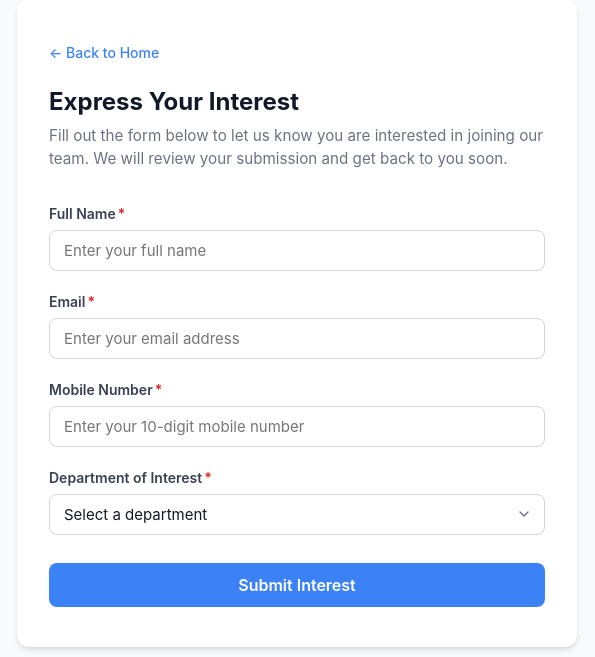
InterestForm › successful submission flow › displays success banner after successful submission
In the field labelled "Full Name*": (297, 250) x1=49 y1=230 x2=545 y2=271, type "Jane Smith"
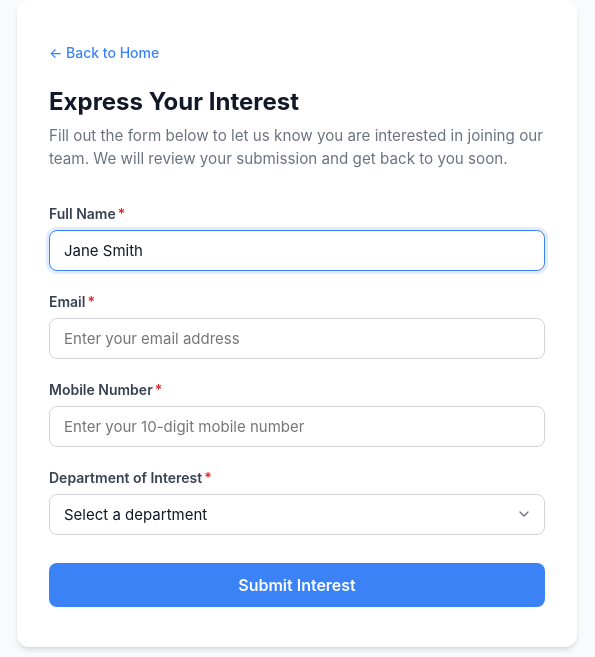
In the field labelled "Email*": (297, 338) x1=49 y1=318 x2=545 y2=359, type "jane@example.com"
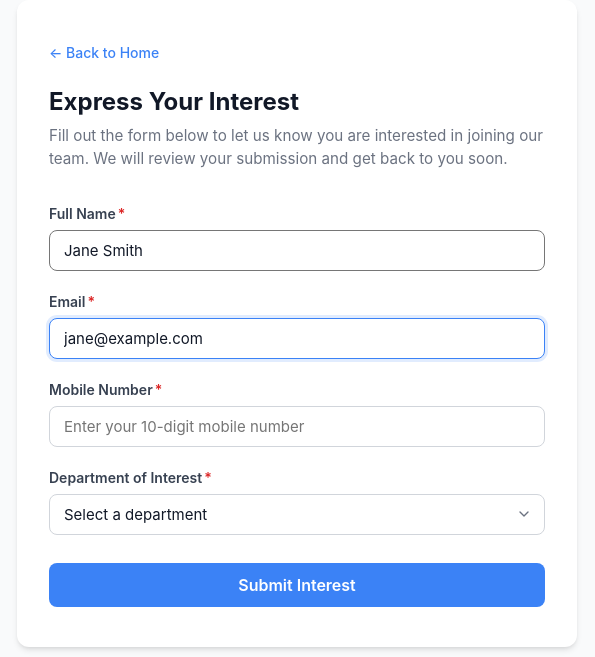
In the field labelled "Mobile Number*": (297, 426) x1=49 y1=406 x2=545 y2=447, type "9876543210"
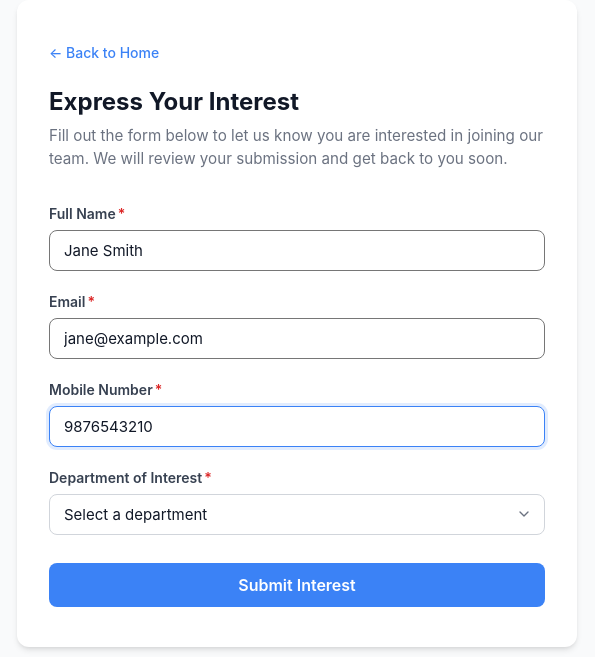
Select "Design" in the dropdown labelled "Department of Interest*": (297, 514) x1=49 y1=494 x2=545 y2=535
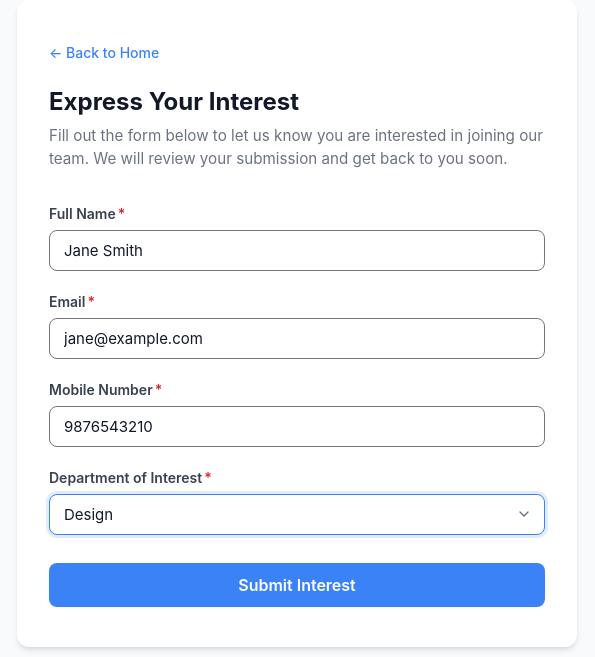
Click the button "Submit Interest": (297, 585) x1=49 y1=563 x2=545 y2=607
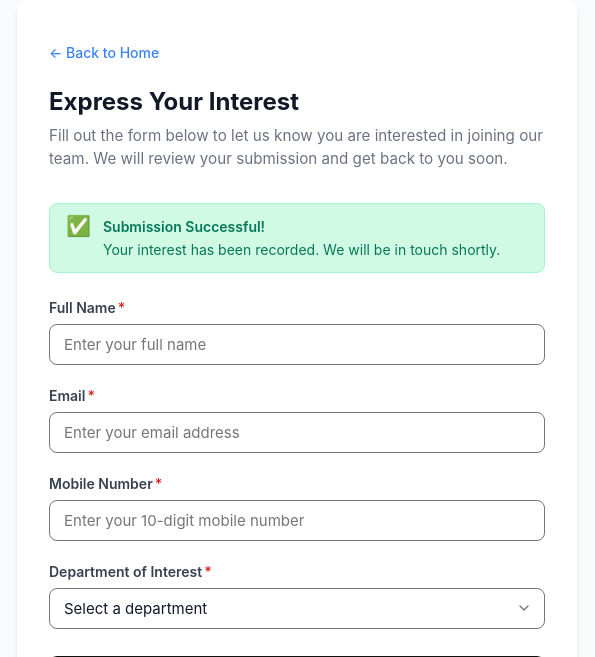
Result: the text "Submission Successful!" is shown at x1=103 y1=218 x2=265 y2=235
Result: the text "Your interest has been recorded" is shown at x1=103 y1=241 x2=500 y2=258
